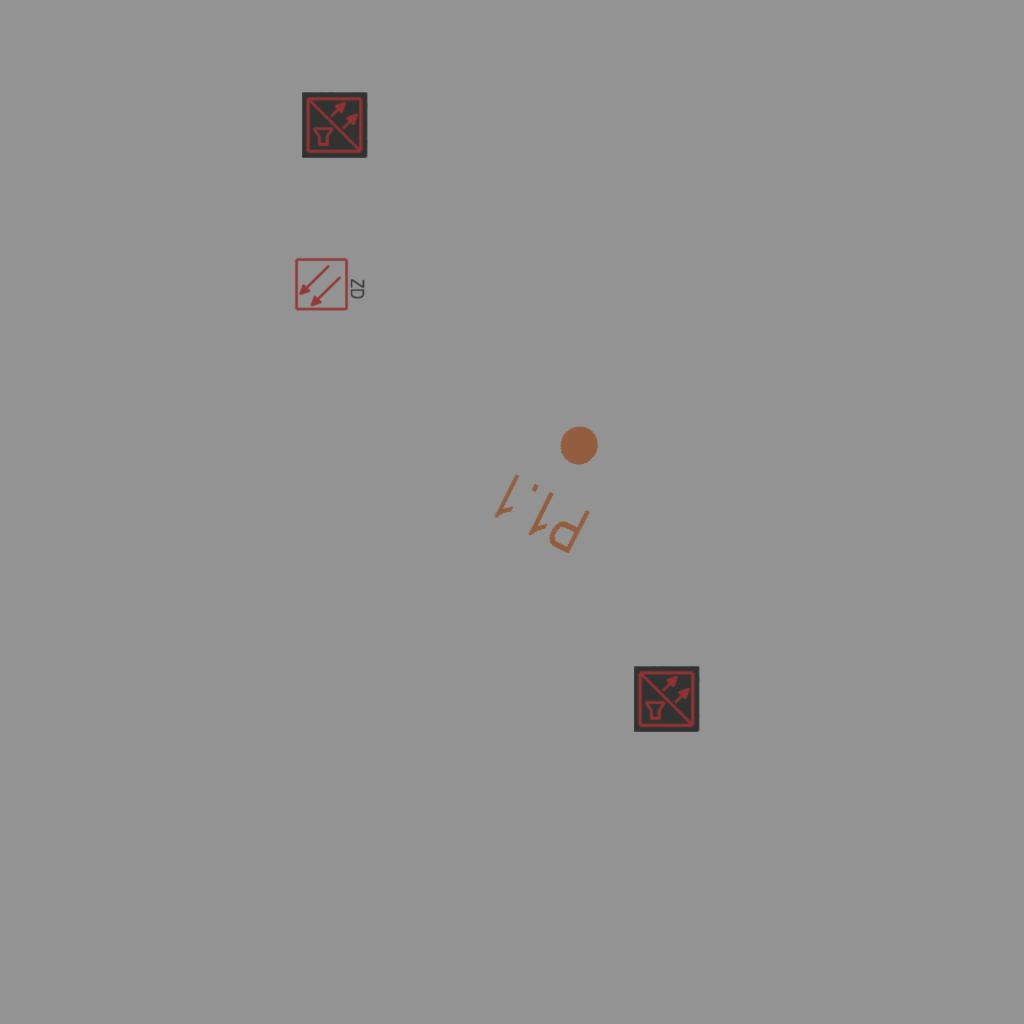Downlight_LED_Einbauleuchten_Flur: (487, 402, 628, 560)
OKW_Multisensormelder_(Kombination_optischer_Rauch-Kahlenmonoxid_Waerme-Melder): (634, 666, 700, 732), (302, 92, 368, 158)
ZD_Melder_in_Zwischendecke_mit_Revisionsoeffnung_mind_40_x_40_cm: (294, 255, 368, 312)
